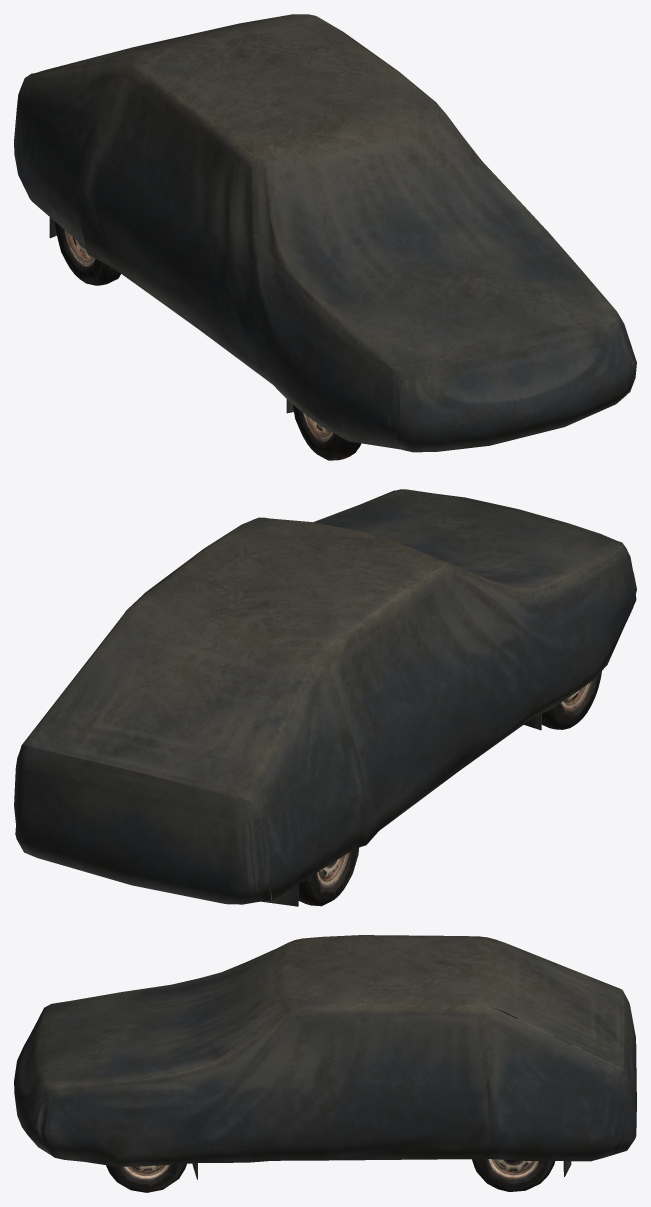
The model's file is covered_car.glb.
The picture shows the model from 3 angles, top to bottom: view 1: azimuth 30°, elevation 25°; view 2: azimuth 150°, elevation 25°; view 3: azimuth 270°, elevation 25°; orthographic projection. The views are drawn at different scales.
Visible parts, largest first — view 1: covered_car; view 2: covered_car; view 3: covered_car.
Boxes of the visible parts, x1,y1,x2,y2 form: covered_car: (14,14,636,460); covered_car: (14,489,636,906); covered_car: (14,935,636,1192).
Bounding box in the file's own units: 1.79 × 1.41 × 4.37.
Materials: 2 (2 with a texture image).
